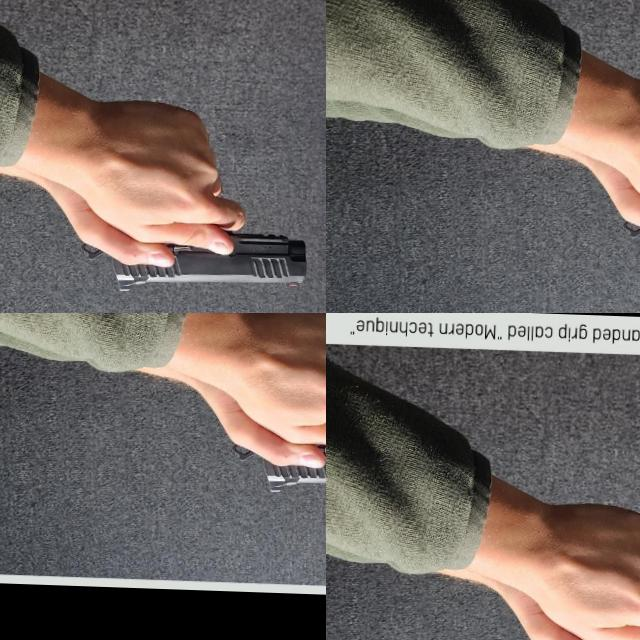handgun: (451, 67, 640, 313), (0, 0, 315, 78), (226, 320, 326, 498)
